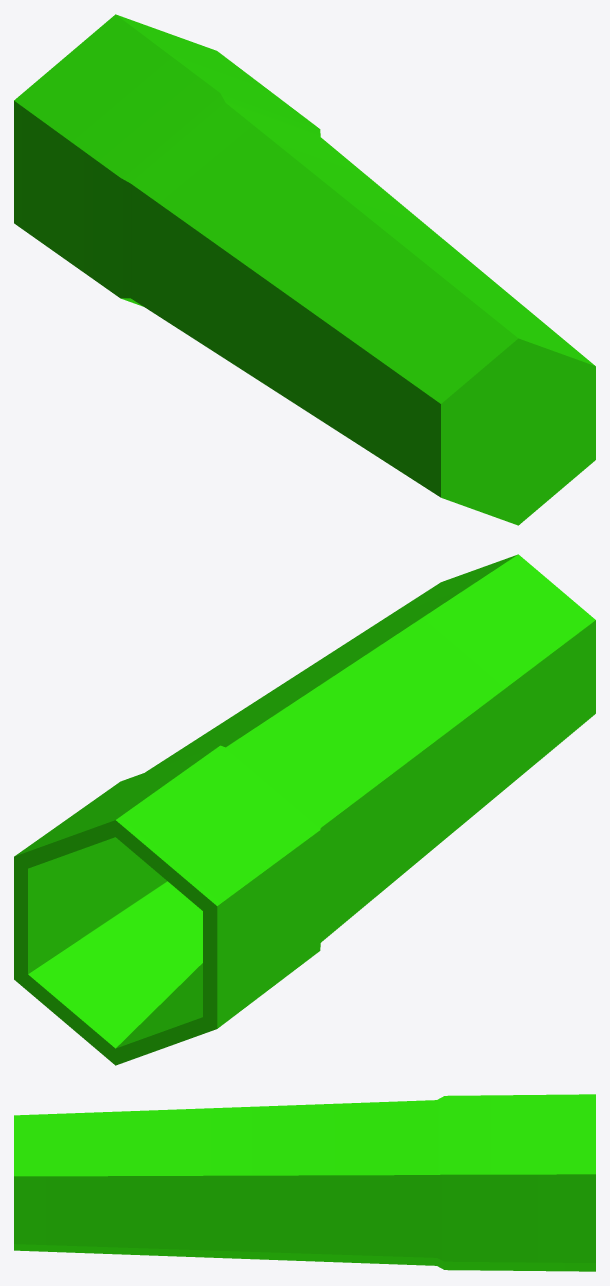
The model's file is Felt_Pen_Plug_01.fbx.
3 renders of one model, top to bottom at view 1: azimuth 30°, elevation 25°; view 2: azimuth 150°, elevation 25°; view 3: azimuth 270°, elevation 25°, orthographic. The views are drawn at different scales.
Visible parts, largest first — view 1: Felt_Pen_Plug_01; view 2: Felt_Pen_Plug_01; view 3: Felt_Pen_Plug_01.
Part boxes in pixels (box(x1,y1,x2,y2)): Felt_Pen_Plug_01: box(14, 14, 595, 525); Felt_Pen_Plug_01: box(14, 554, 595, 1065); Felt_Pen_Plug_01: box(14, 1094, 595, 1271).
Bounding box in the file's own units: 0.9924 × 1.15 × 3.41.
